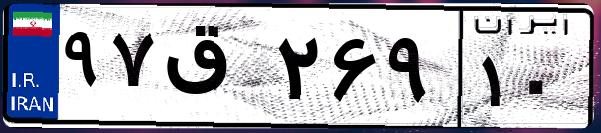0: (525, 38, 570, 115)
1: (475, 38, 525, 113)
2: (270, 28, 330, 110)
6: (330, 28, 385, 110)
7: (110, 28, 158, 98)
9: (385, 28, 445, 110), (57, 26, 110, 100)
ق: (158, 20, 270, 120)
